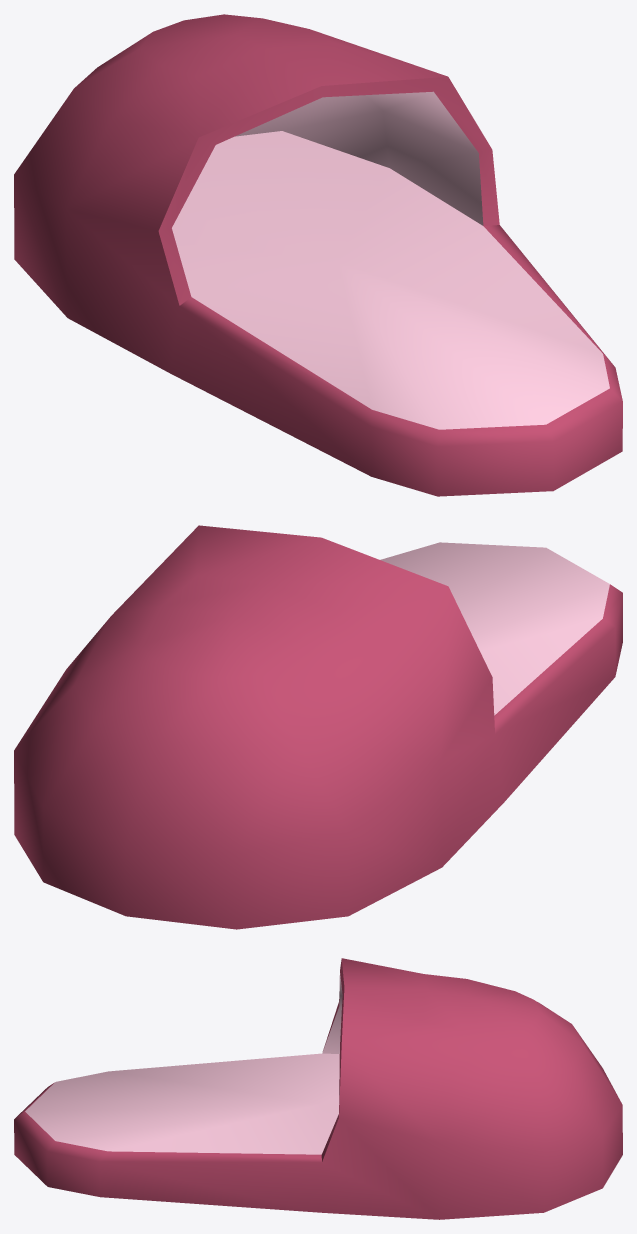
File: 13_prop_slippers.FBX
3 views of the same model, one above another, from view 1: azimuth 30°, elevation 25°; view 2: azimuth 150°, elevation 25°; view 3: azimuth 270°, elevation 25° (orthographic). The views are drawn at different scales.
Visible parts, largest first — view 1: prop_slippers; view 2: prop_slippers; view 3: prop_slippers.
Part boxes in pixels (box(x1,y1,x2,y2)): prop_slippers: box(14, 14, 622, 496); prop_slippers: box(14, 525, 622, 929); prop_slippers: box(14, 958, 622, 1219).
Size of the model in its own units: 10.84 by 6.51 by 21.47.
